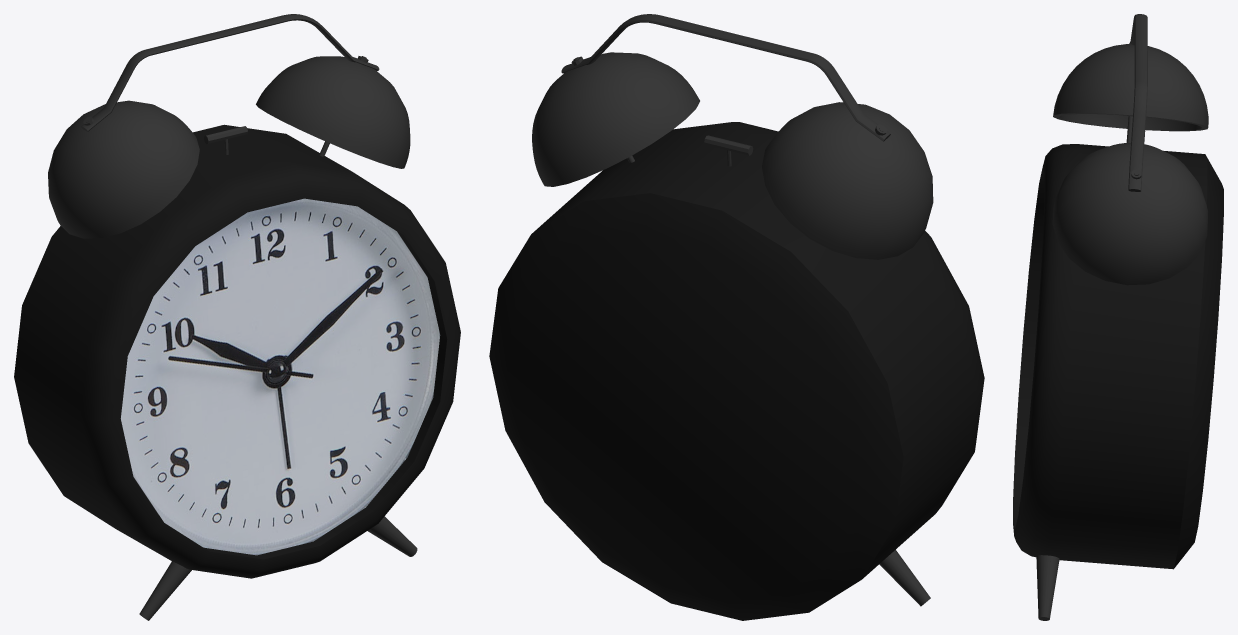
Rendered from Alarm clock.FBX.
The picture shows the model from 3 angles, left to right: view 1: azimuth 30°, elevation 25°; view 2: azimuth 150°, elevation 25°; view 3: azimuth 270°, elevation 25°; orthographic projection. The views are drawn at different scales.
Visible parts, largest first — view 1: alarm clock; view 2: alarm clock; view 3: alarm clock.
Boxes of the visible parts, x1,y1,x2,y2 form: alarm clock: [14, 14, 460, 620]; alarm clock: [489, 14, 984, 620]; alarm clock: [1013, 14, 1223, 620].
Size of the model in its own units: 11.31 by 15.08 by 5.7.
2 materials, 1 textured.
